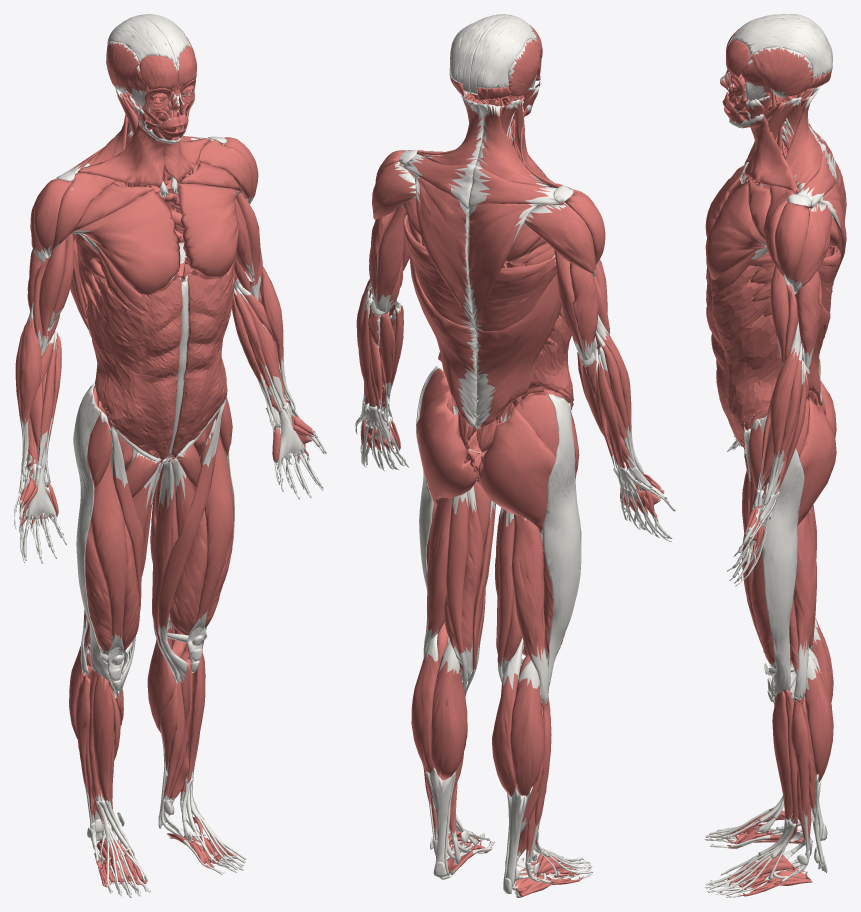
The model's file is Muscular_system.glb.
3 views of the same model, side by side, from view 1: azimuth 30°, elevation 25°; view 2: azimuth 150°, elevation 25°; view 3: azimuth 270°, elevation 25° (orthographic). The views are drawn at different scales.
Parts seen in each view (by area): view 1: External abdominal oblique muscle.r, Sternocostal head of pectoralis major muscle.r, External abdominal oblique muscle.l, Sternocostal head of pectoralis major muscle.l, Rectus femoris muscle.r, Rectus femoris muscle.l, Sartorius muscle.l, Iliotibial tract.r, Platysma.r, Vastus medialis muscle.l, Gracilis muscle.l, Sartorius muscle.r (+45 smaller); view 2: Latissimus dorsi muscle.r, Iliotibial tract.r, Latissimus dorsi muscle.l, Gluteus maximus muscle.r, Descending part of trapezius muscle.l, Long head of biceps femoris.r, Descending part of trapezius muscle.r, Gluteus maximus muscle.l, Medial head of gastrocnemius.l, Lateral head of gastrocnemius.r, Epicranial aponeurosis.r, Scapular spinal part of deltoid muscle.r (+34 smaller); view 3: External abdominal oblique muscle.l, Iliotibial tract.l, Sternocostal head of pectoralis major muscle.l, Epicranial aponeurosis.l, Long head of biceps femoris.l, Gluteus maximus muscle.l, Temporoparietalis muscle.l, Lateral head of gastrocnemius.l, Platysma.l, Brachioradialis muscle.l, Acromial part of deltoid muscle.l, Scapular spinal part of deltoid muscle.l (+38 smaller).
Part boxes in pixels (x1=…): External abdominal oblique muscle.r: x1=86, y1=260, x2=182, y2=451; Sternocostal head of pectoralis major muscle.r: x1=69, y1=190, x2=180, y2=294; External abdominal oblique muscle.l: x1=174, y1=265, x2=234, y2=448; Sternocostal head of pectoralis major muscle.l: x1=178, y1=183, x2=240, y2=277; Rectus femoris muscle.r: x1=90, y1=444, x2=127, y2=691; Rectus femoris muscle.l: x1=187, y1=419, x2=233, y2=672; Sartorius muscle.l: x1=158, y1=399, x2=225, y2=682; Iliotibial tract.r: x1=73, y1=382, x2=110, y2=681; Platysma.r: x1=78, y1=118, x2=176, y2=187; Vastus medialis muscle.l: x1=169, y1=510, x2=207, y2=656; Gracilis muscle.l: x1=152, y1=459, x2=179, y2=684; Sartorius muscle.r: x1=108, y1=424, x2=143, y2=697; Latissimus dorsi muscle.r: x1=475, y1=255, x2=561, y2=428; Iliotibial tract.r: x1=542, y1=394, x2=581, y2=688; Latissimus dorsi muscle.l: x1=403, y1=215, x2=476, y2=426; Gluteus maximus muscle.r: x1=478, y1=406, x2=555, y2=530; Descending part of trapezius muscle.l: x1=414, y1=174, x2=475, y2=330; Long head of biceps femoris.r: x1=511, y1=514, x2=549, y2=703; Descending part of trapezius muscle.r: x1=468, y1=203, x2=544, y2=330; Gluteus maximus muscle.l: x1=416, y1=391, x2=478, y2=505; Medial head of gastrocnemius.l: x1=431, y1=640, x2=467, y2=780; Lateral head of gastrocnemius.r: x1=510, y1=659, x2=544, y2=796; Epicranial aponeurosis.r: x1=469, y1=15, x2=538, y2=94; Scapular spinal part of deltoid muscle.r: x1=524, y1=202, x2=595, y2=276; External abdominal oblique muscle.l: x1=706, y1=265, x2=781, y2=445; Iliotibial tract.l: x1=759, y1=415, x2=804, y2=695; Sternocostal head of pectoralis major muscle.l: x1=705, y1=181, x2=766, y2=279; Epicranial aponeurosis.l: x1=730, y1=18, x2=832, y2=78; Long head of biceps femoris.l: x1=793, y1=511, x2=816, y2=700; Gluteus maximus muscle.l: x1=797, y1=396, x2=836, y2=525; Temporoparietalis muscle.l: x1=750, y1=47, x2=813, y2=97; Lateral head of gastrocnemius.l: x1=805, y1=654, x2=833, y2=781; Platysma.l: x1=729, y1=114, x2=797, y2=192; Brachioradialis muscle.l: x1=763, y1=321, x2=800, y2=506; Acromial part of deltoid muscle.l: x1=775, y1=202, x2=809, y2=285; Scapular spinal part of deltoid muscle.l: x1=791, y1=203, x2=831, y2=294.
Bounding box in the file's own units: 0.6595 × 1.7 × 0.2586.
